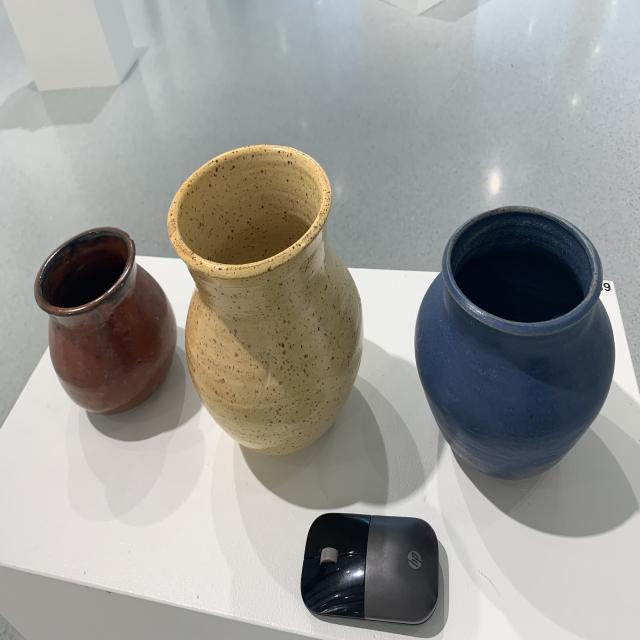Mouse: (292, 505, 460, 632)
